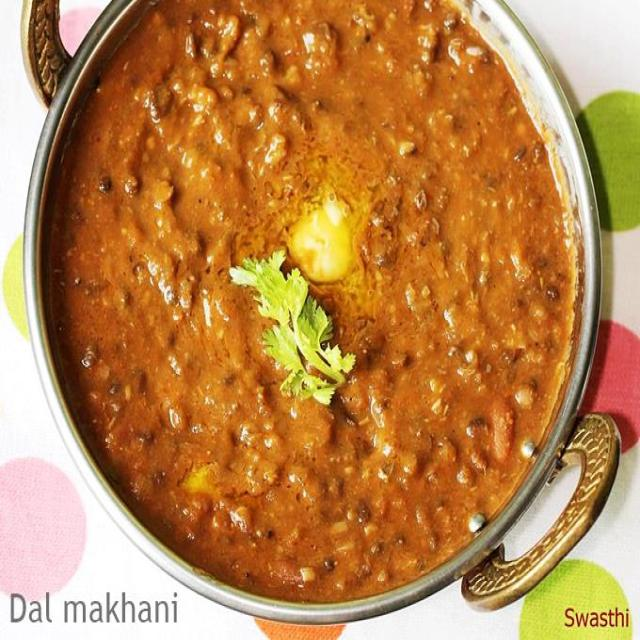dal_makhani: (56, 0, 582, 595)
